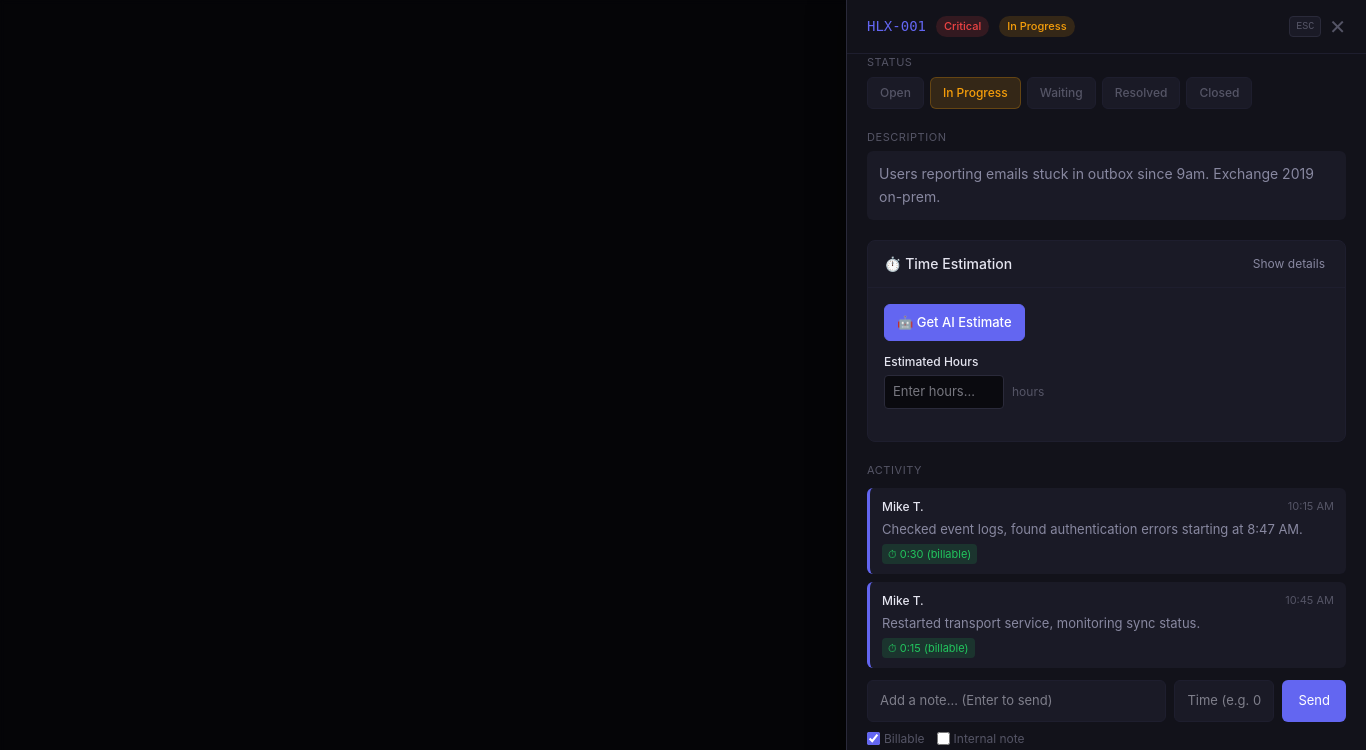
Test: TicketDetail › can add a note
This screenshot has width=1366, height=750.
(page scrolled)
Type "Test note from vitest" into the field with placeholder "Add a note... (Enter to send)".
click(1017, 701); type("Test note from vitest")  # box [867,680,1166,722]
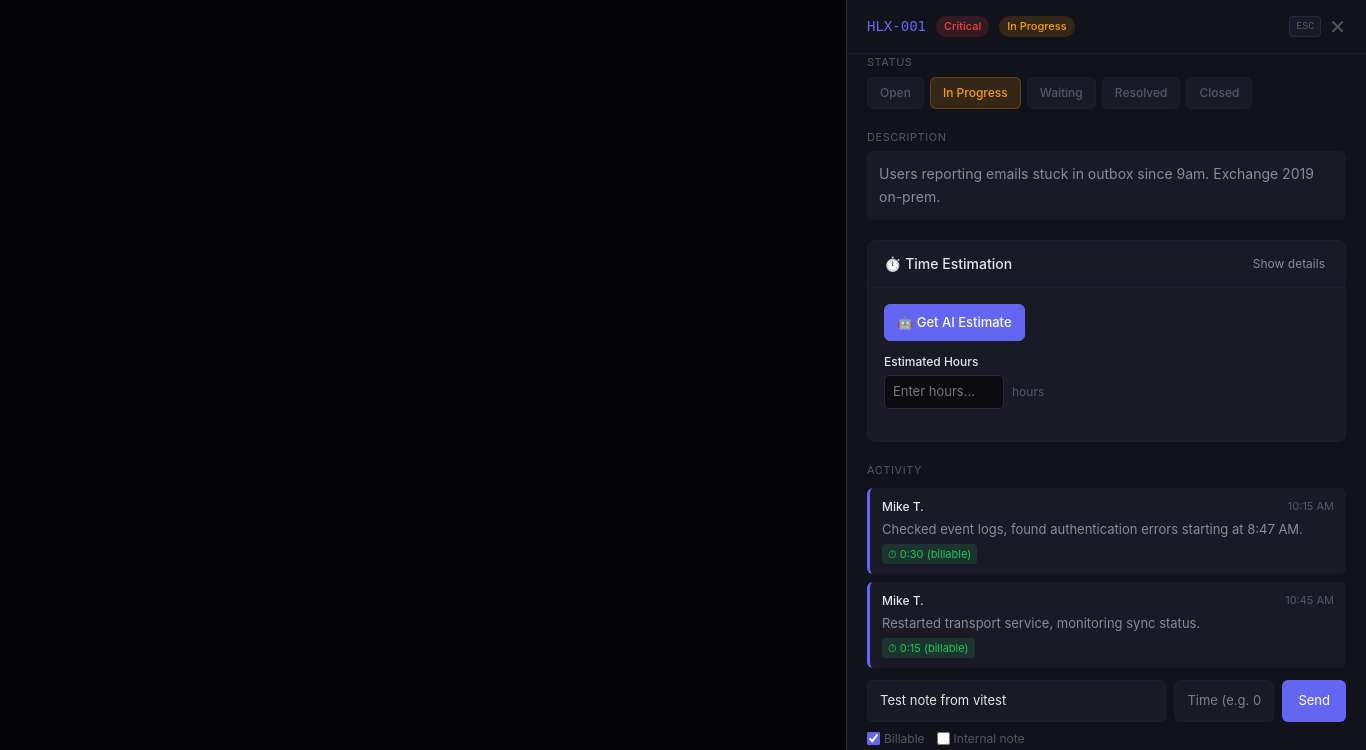
Click the button "Send".
click(1314, 701)  # box [1282,680,1346,722]
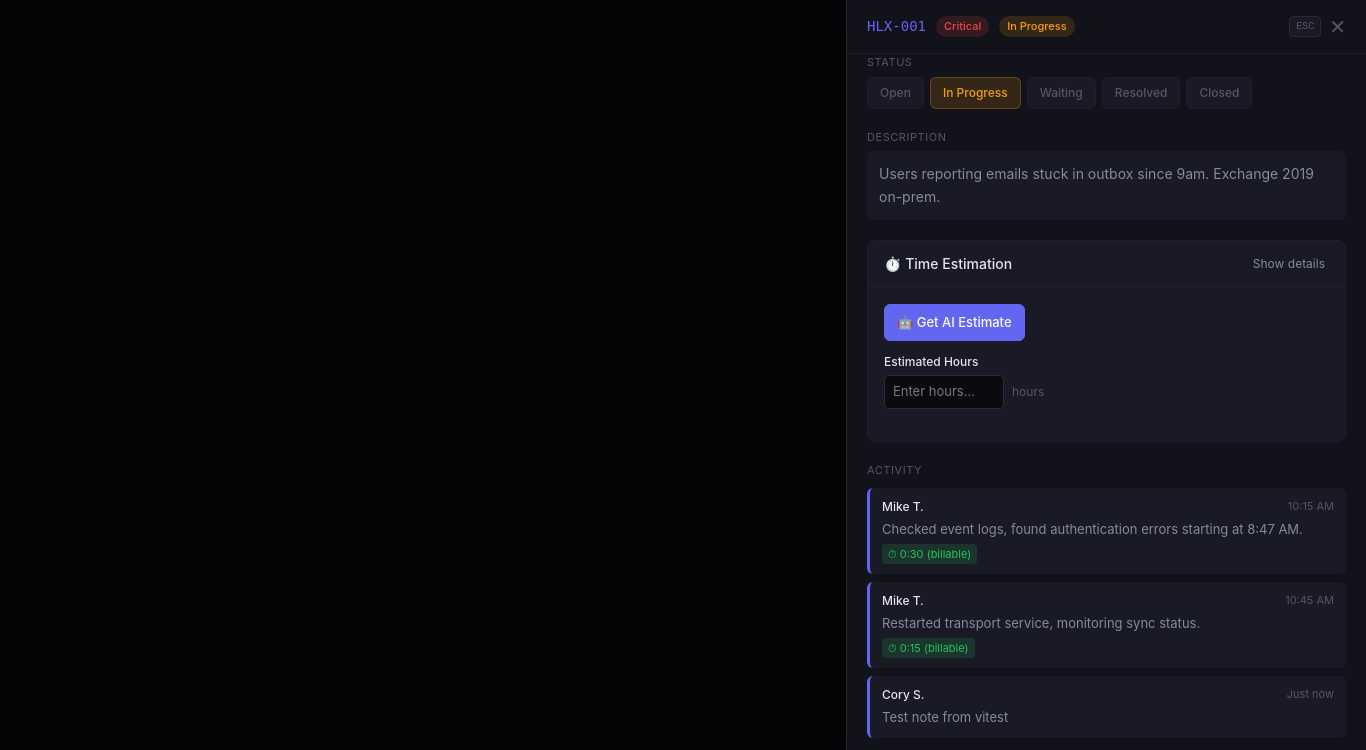
Expected: the text "Test note from vitest" is shown, [882,710,1008,726]
